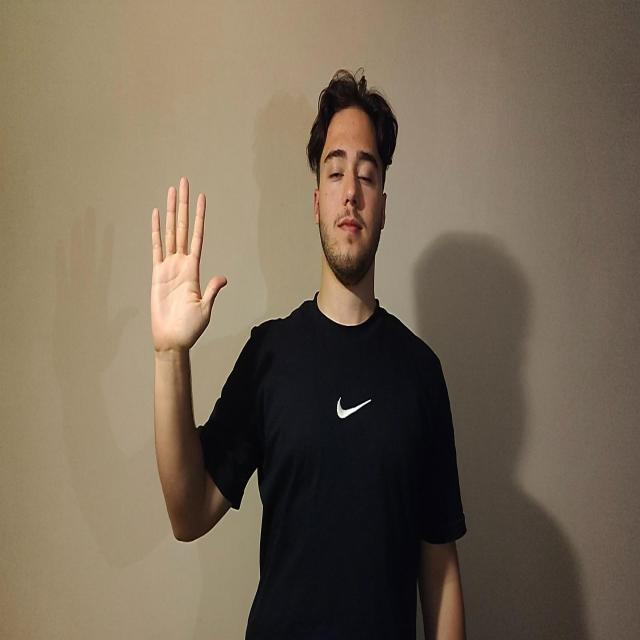hello: (150, 175, 228, 354)
